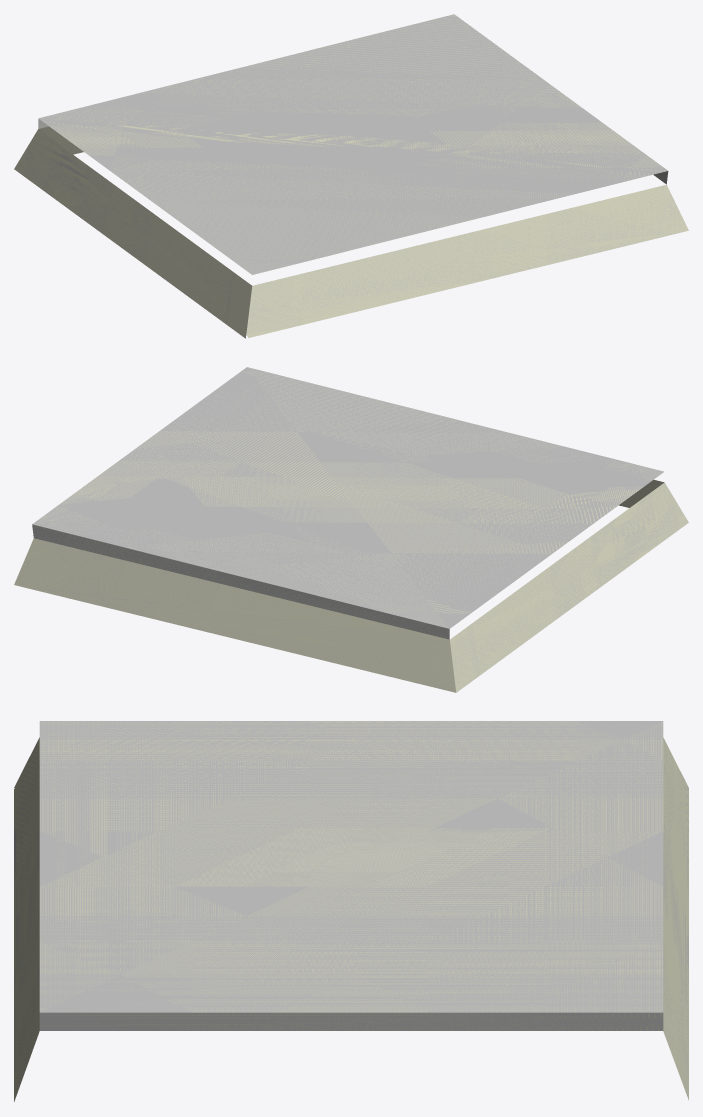
Rendered from original-26.obj.
3 renders of one model, top to bottom at view 1: azimuth 30°, elevation 25°; view 2: azimuth 150°, elevation 25°; view 3: azimuth 270°, elevation 25°, orthographic. The views are drawn at different scales.
Visible parts, largest first — view 1: tus24/tus/mesh1/mesh1-geometry#mesh1-geometry; view 2: tus24/tus/mesh1/mesh1-geometry#mesh1-geometry; view 3: tus24/tus/mesh1/mesh1-geometry#mesh1-geometry.
Boxes of the visible parts, left/top/right/bottom form: tus24/tus/mesh1/mesh1-geometry#mesh1-geometry: left=14, top=14, right=688, bottom=338; tus24/tus/mesh1/mesh1-geometry#mesh1-geometry: left=14, top=367, right=688, bottom=692; tus24/tus/mesh1/mesh1-geometry#mesh1-geometry: left=14, top=721, right=688, bottom=1101.
Bounding box in the file's own units: 0.0476 × 0.00578 × 0.0432.
